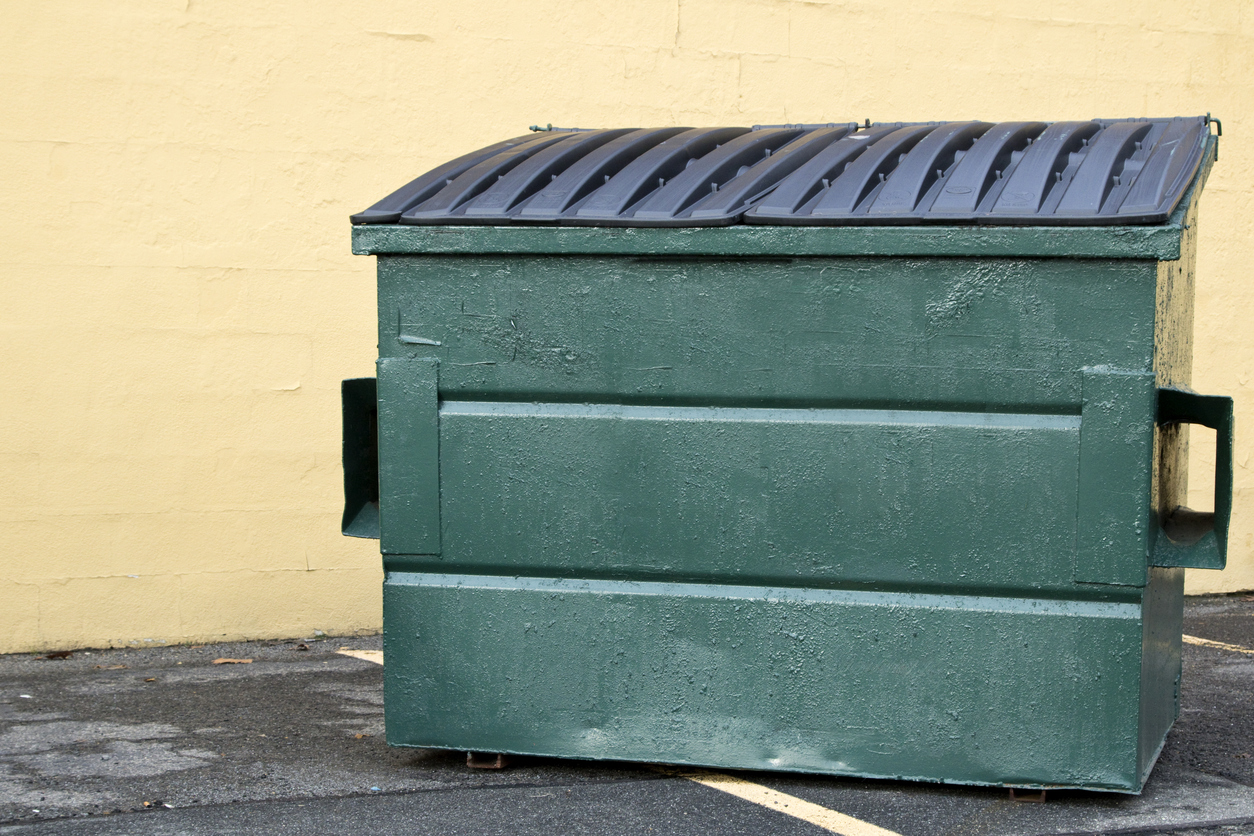Dumpster: (324, 112, 1246, 799)
